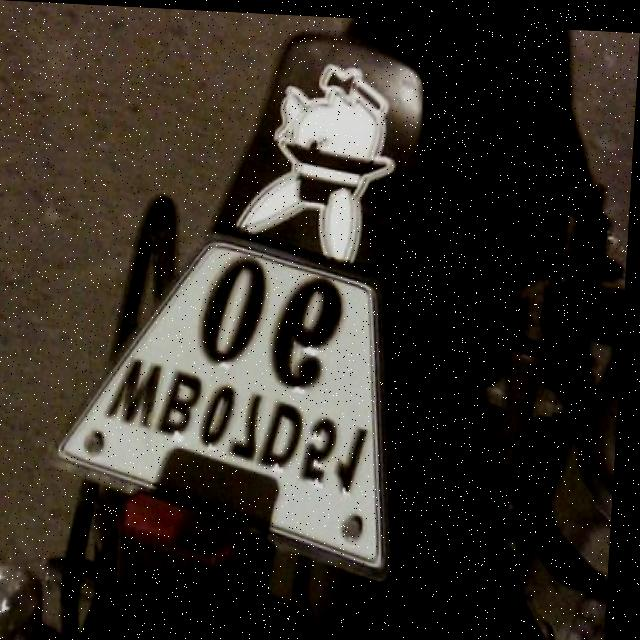plate: (46, 227, 413, 573)
